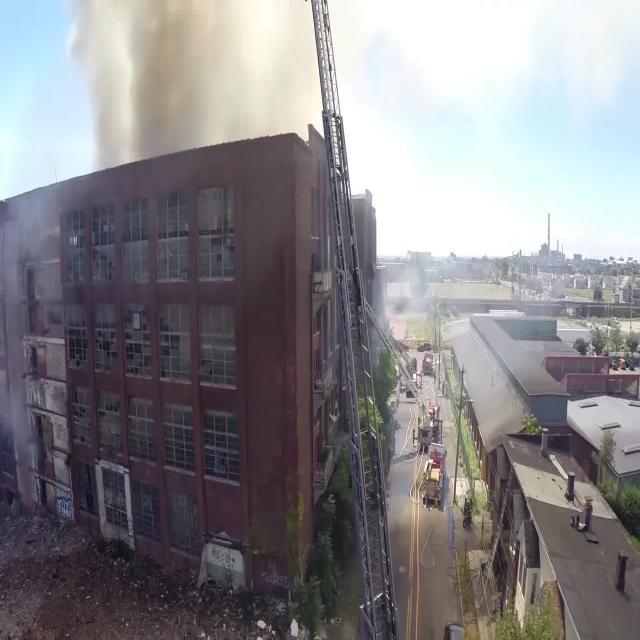Smoke: (70, 0, 316, 180)
